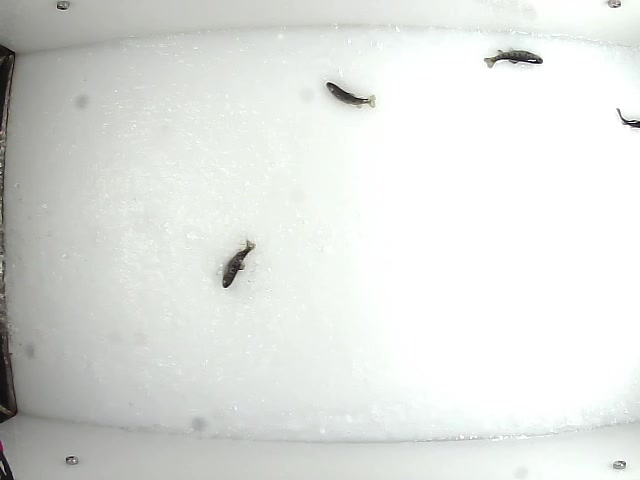fish: (220, 238, 255, 291), (326, 81, 378, 111), (482, 48, 544, 70)
